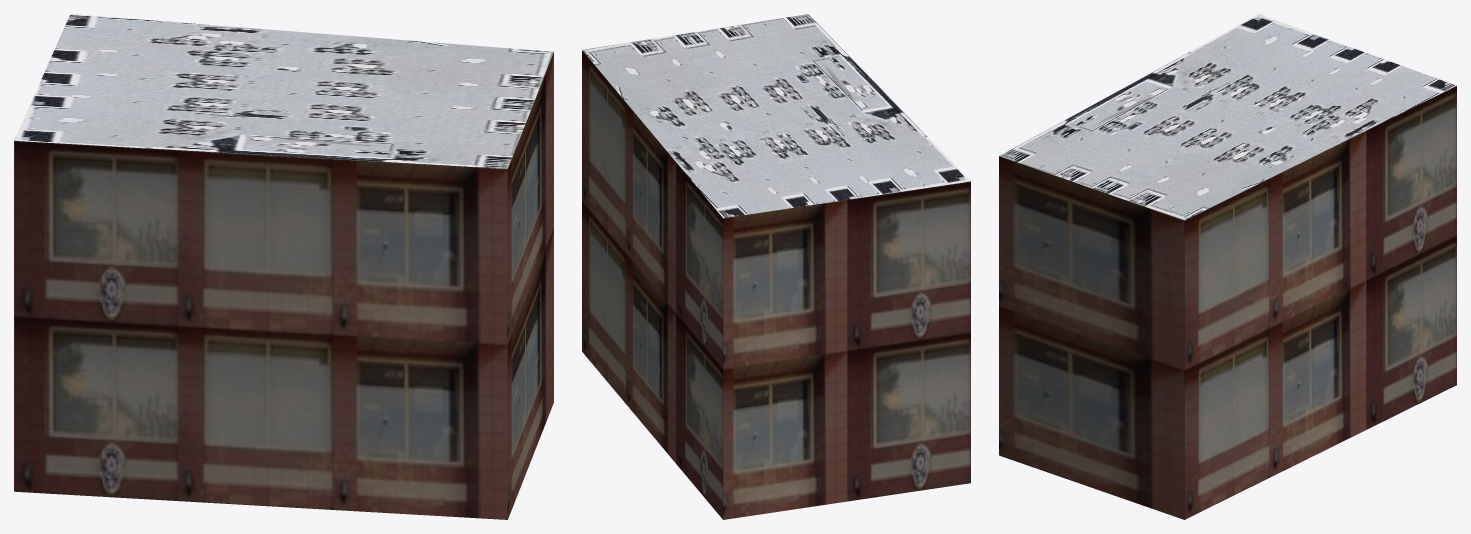
Rendered from ResTex__1771.fbx.
The picture shows the model from 3 angles, left to right: view 1: azimuth 30°, elevation 25°; view 2: azimuth 150°, elevation 25°; view 3: azimuth 270°, elevation 25°; orthographic projection. The views are drawn at different scales.
Parts seen in each view (by area): view 1: CityEngineMaterial_13_m, CityEngineMaterial_2_m; view 2: CityEngineMaterial_13_m, CityEngineMaterial_2_m; view 3: CityEngineMaterial_13_m, CityEngineMaterial_2_m.
Part boxes in pixels (left/top/right/bottom): CityEngineMaterial_13_m: left=14, top=52, right=553, bottom=519; CityEngineMaterial_2_m: left=14, top=14, right=553, bottom=168; CityEngineMaterial_13_m: left=582, top=50, right=970, bottom=519; CityEngineMaterial_2_m: left=582, top=14, right=970, bottom=218; CityEngineMaterial_13_m: left=999, top=86, right=1456, bottom=519; CityEngineMaterial_2_m: left=999, top=14, right=1456, bottom=220.
Bounding box in the file's own units: 8.88 × 6 × 8.32.
Materials: 2 (2 with a texture image).
